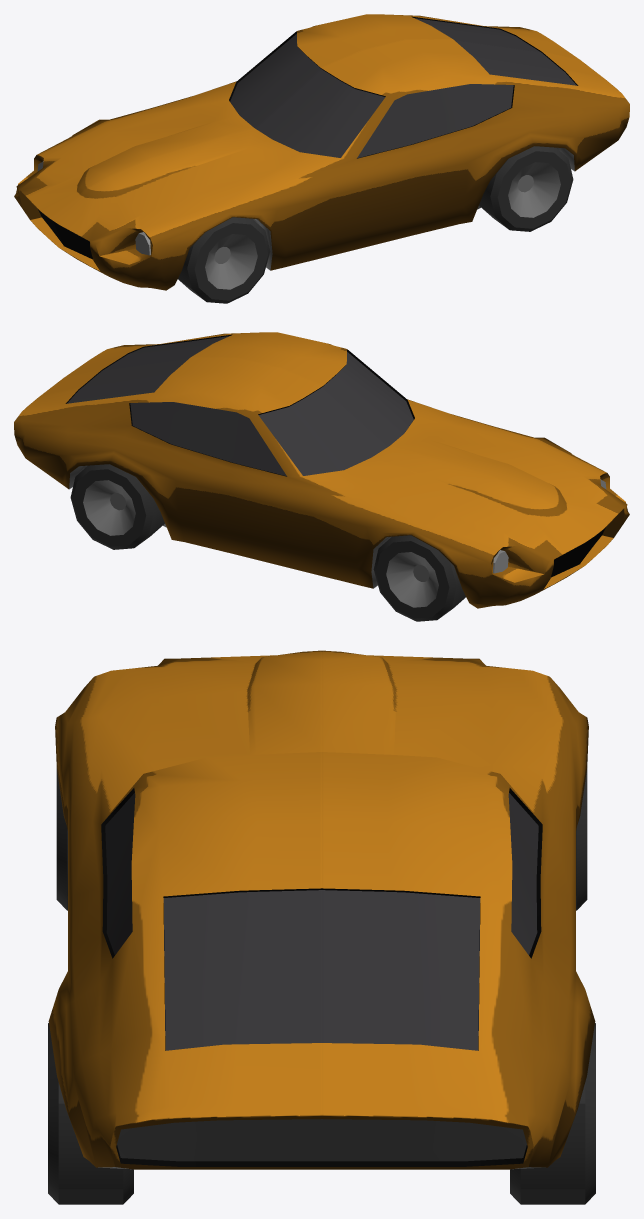
The model's file is datsun.glb.
The picture shows the model from 3 angles, top to bottom: view 1: azimuth 30°, elevation 25°; view 2: azimuth 150°, elevation 25°; view 3: azimuth 270°, elevation 25°; orthographic projection. The views are drawn at different scales.
Visible parts, largest first — view 1: Body, Wheels; view 2: Body, Wheels; view 3: Body, Wheels.
Part boxes in pixels (<box>): Body: <box>14,14,629,290</box>; Wheels: <box>178,146,573,303</box>; Body: <box>14,332,629,608</box>; Wheels: <box>70,464,465,621</box>; Body: <box>48,650,595,1169</box>; Wheels: <box>48,768,595,1204</box>.
Bounding box in the file's own units: 4.08 × 1.16 × 1.83.
9 materials, 1 textured.
